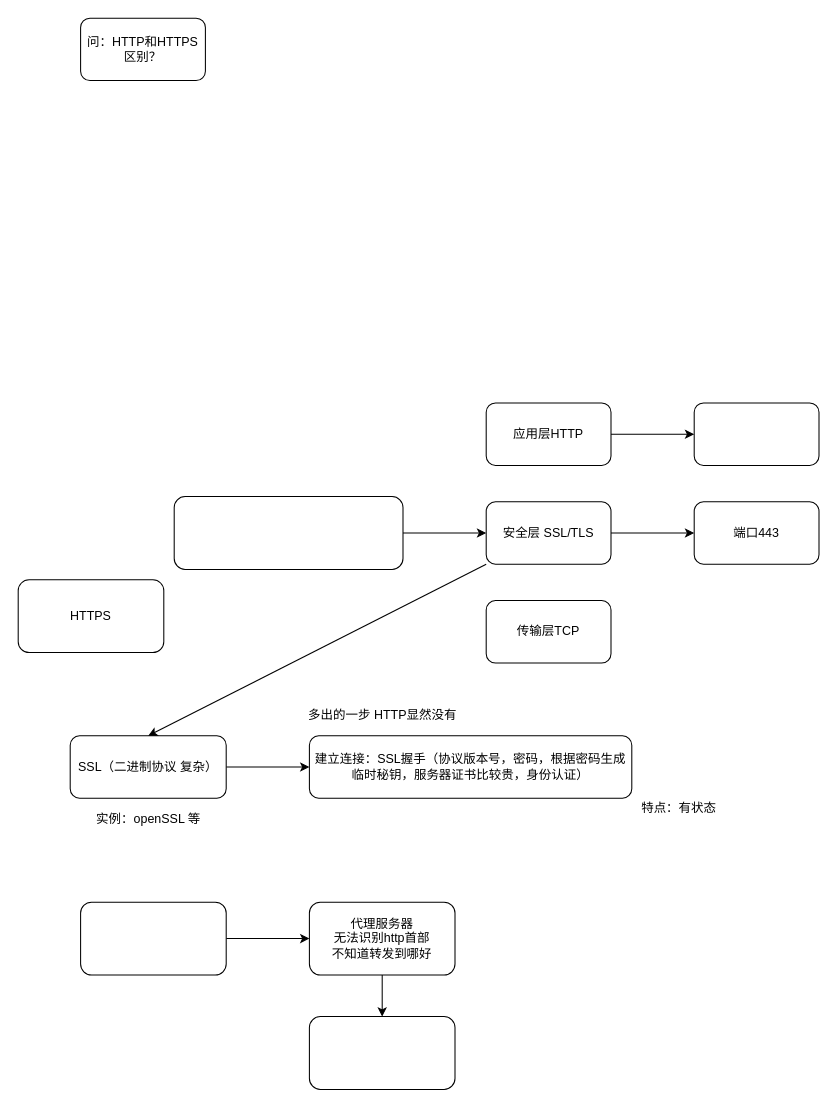
Image size: 837x1108. Some labels were removed from this diagram. Each missing label, with the centre of its shape:
"HTTPS SSL隧道协议" belongs at point 381,1052.
"HTTPS加密报文" belongs at point 153,938.
"概述:应用层和传输层中间（安全层）" belongs at point 288,532.
"端口80" belongs at point 756,433.
